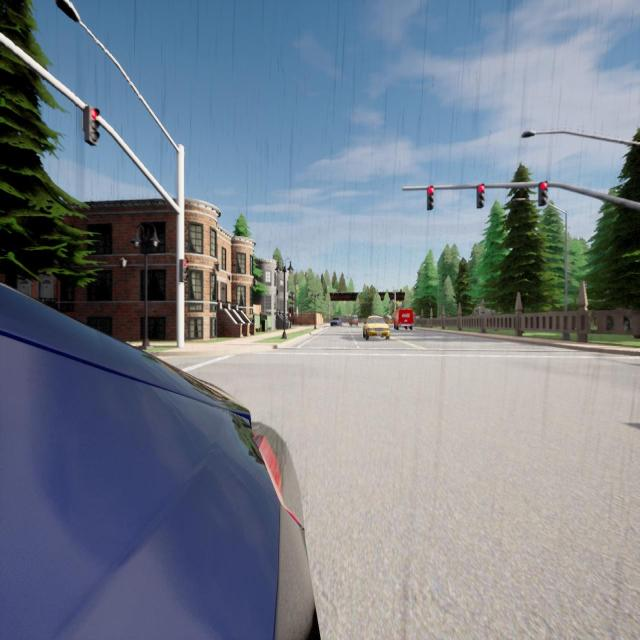Vehicle: (0, 284, 315, 638), (363, 314, 390, 340), (393, 308, 414, 330), (349, 315, 359, 327), (330, 316, 342, 326)
traffic_light: (84, 105, 100, 146), (538, 181, 548, 206), (476, 184, 485, 208), (179, 260, 188, 282), (427, 186, 434, 210)
